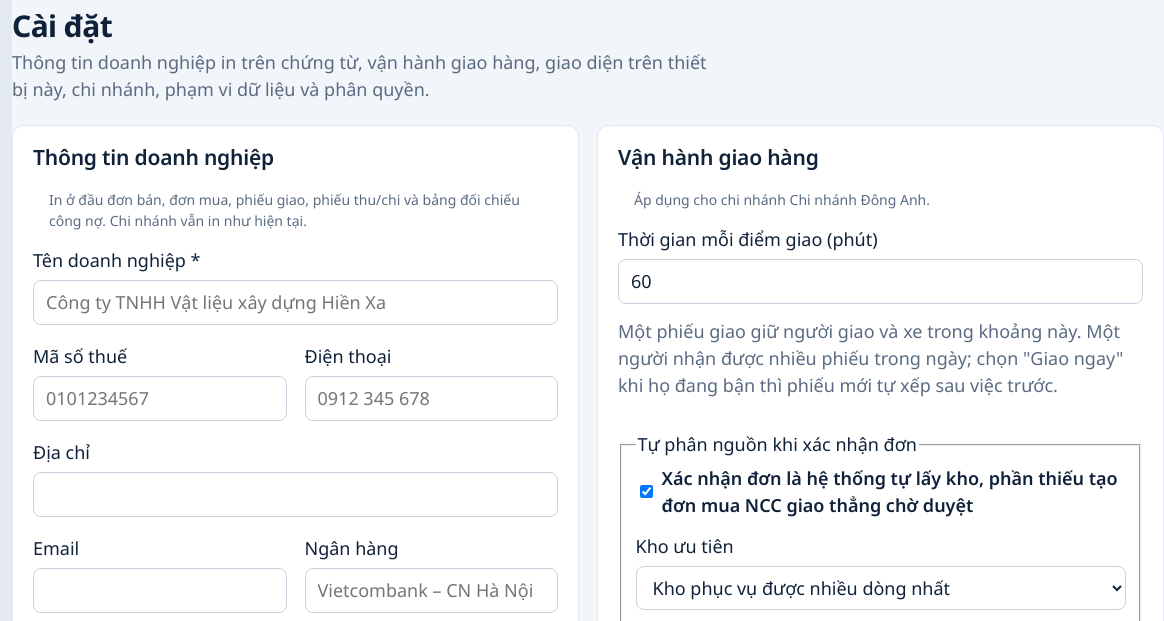
sets the branch's time per delivery stop against its version
The width and height of the screenshot is (1164, 621).
Replace the text in the field labelled "Thời gian mỗi điểm giao (phút)" with "3": (880, 282) [618,259,1143,304]
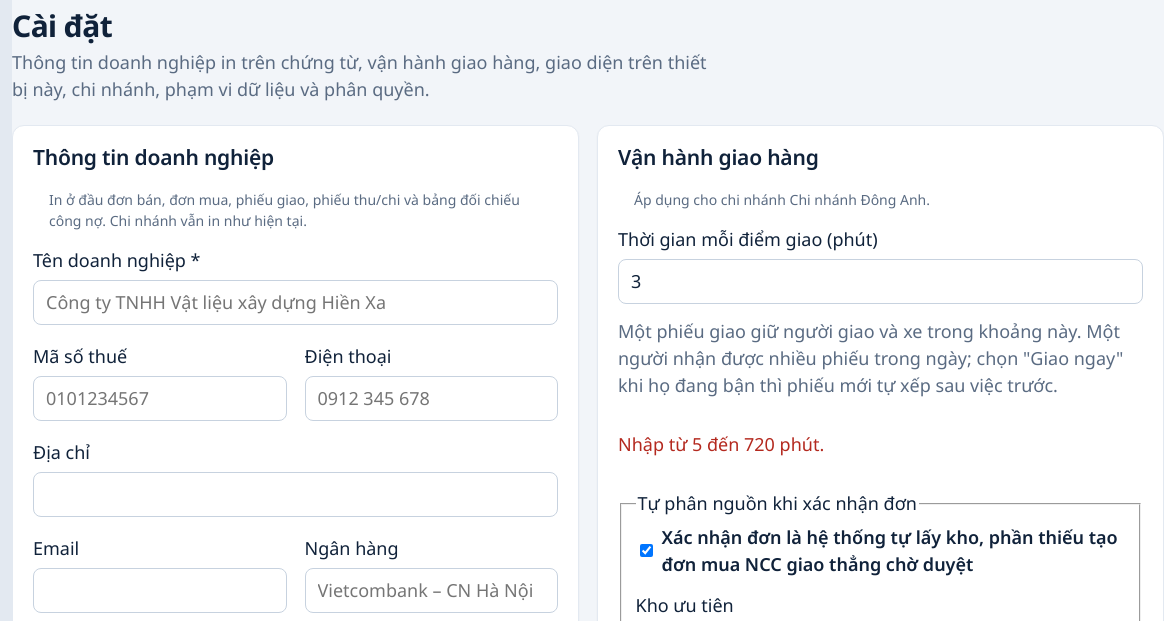
Replace the text in the field labelled "Thời gian mỗi điểm giao (phút)" with "45": (880, 282) [618,259,1143,304]
(page scrolled)
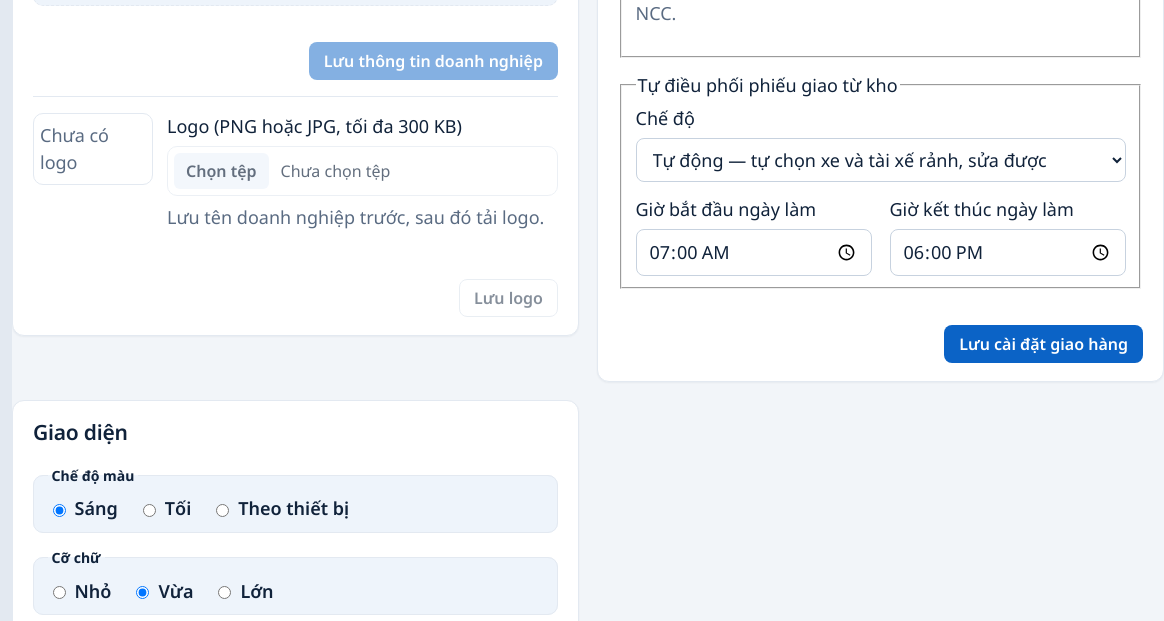
Click the button "Lưu cài đặt giao hàng": click(1044, 344) [944,325,1143,363]
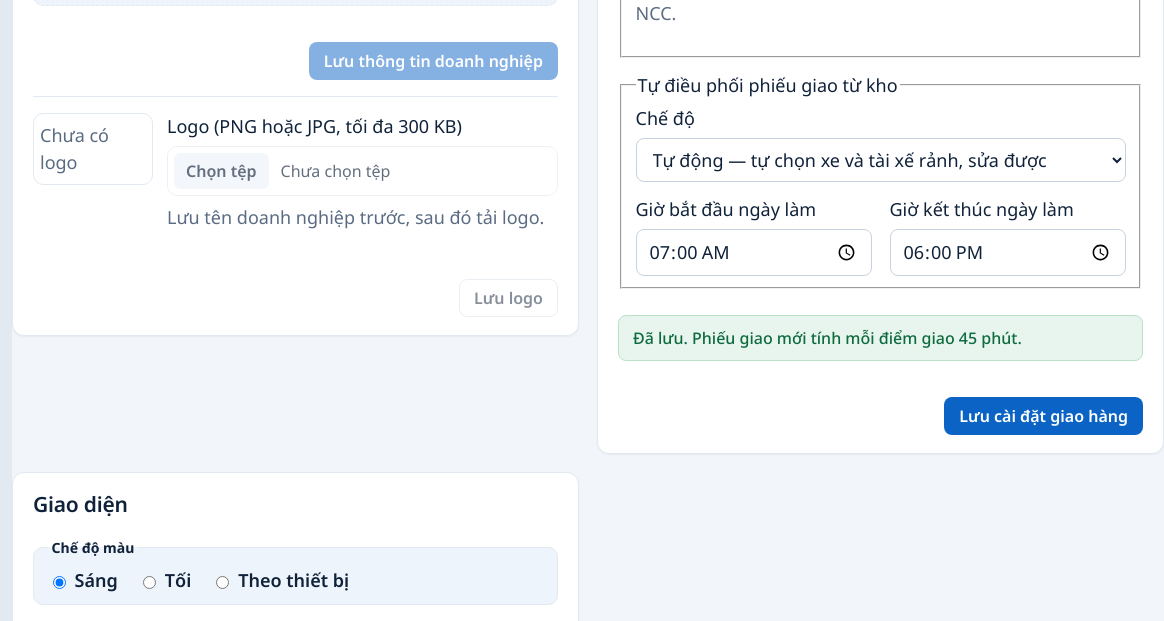
Check: the text "Đã lưu. Phiếu giao mới tính mỗi điểm giao 45 phút." is shown, box [618,315,1143,361]
